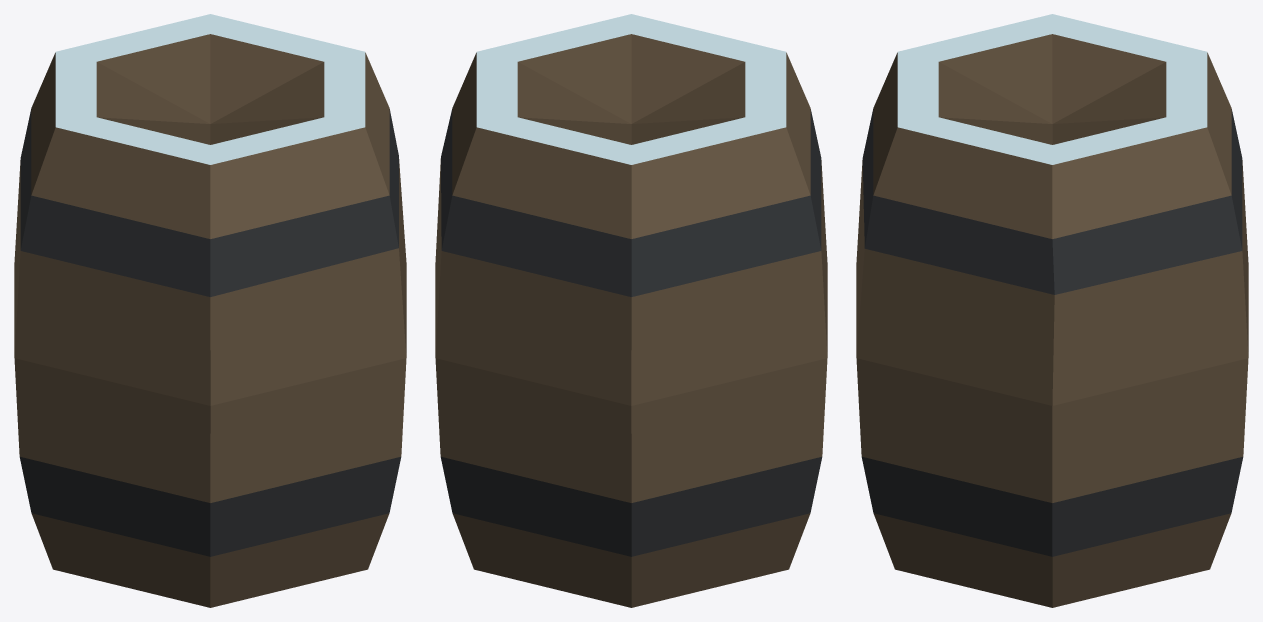
Rendered from SM_Env_Generic_Barrel_01_Snow.fbx.
The picture shows the model from 3 angles, left to right: view 1: azimuth 30°, elevation 25°; view 2: azimuth 150°, elevation 25°; view 3: azimuth 270°, elevation 25°; orthographic projection.
Parts seen in each view (by area): view 1: SM_Env_Generic_Barrel_01_Snow; view 2: SM_Env_Generic_Barrel_01_Snow; view 3: SM_Env_Generic_Barrel_01_Snow.
Part boxes in pixels (x1,y1,x2,y2): SM_Env_Generic_Barrel_01_Snow: [14, 14, 406, 607]; SM_Env_Generic_Barrel_01_Snow: [435, 14, 827, 607]; SM_Env_Generic_Barrel_01_Snow: [856, 14, 1248, 607].
Bounding box in the file's own units: 17 × 18.3 × 14.72.
1 material, 1 textured.
